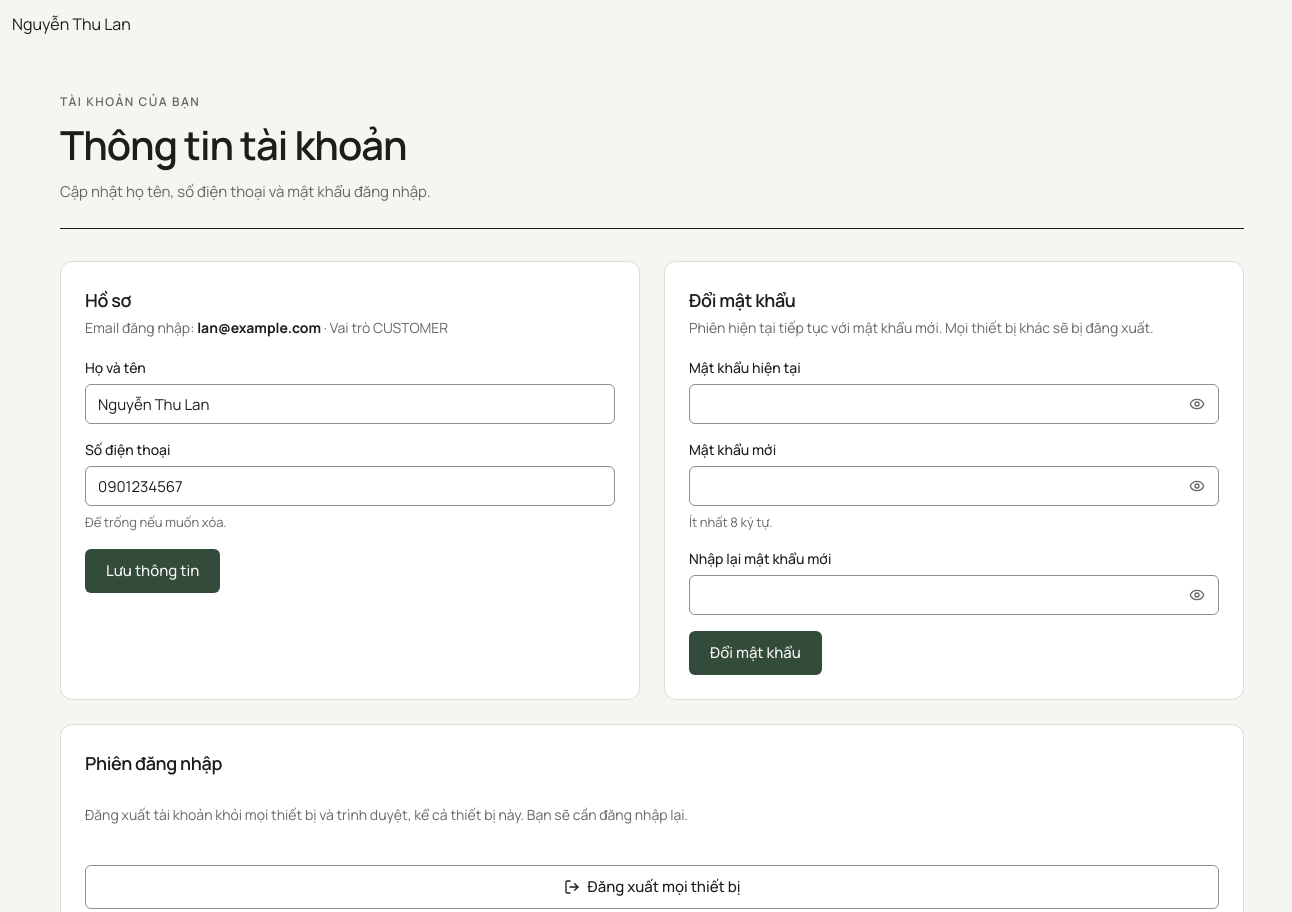
Test case: AccountPage and profile hydration (CWB-63) › saves name/phone and updates the greeting without reloading
Replace the text in the field labelled "Họ và tên" with "Lan Nguyễn": (350, 404) [85,384,615,424]
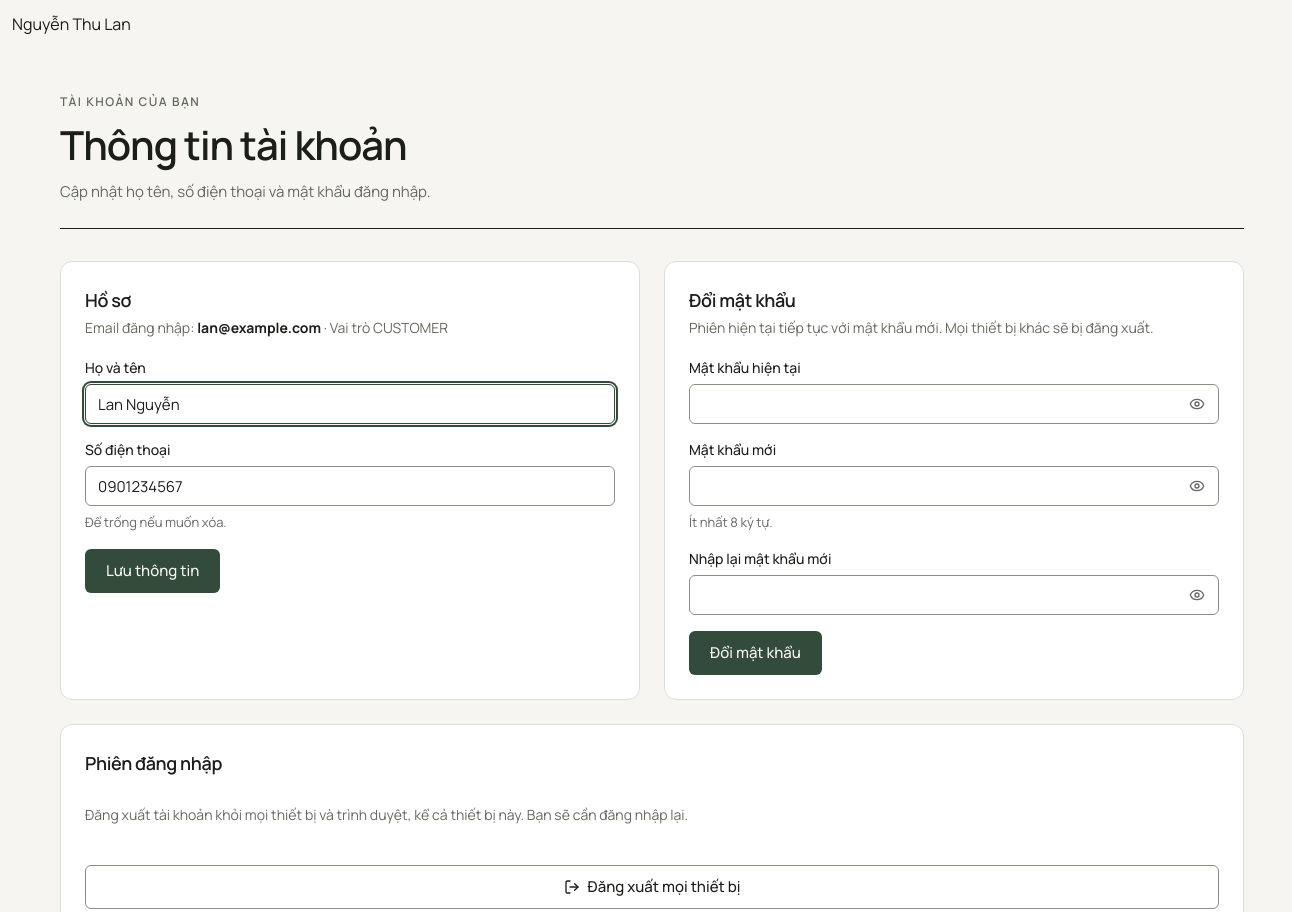
Clear the field labelled "Số điện thoại": (350, 486) [85,466,615,506]
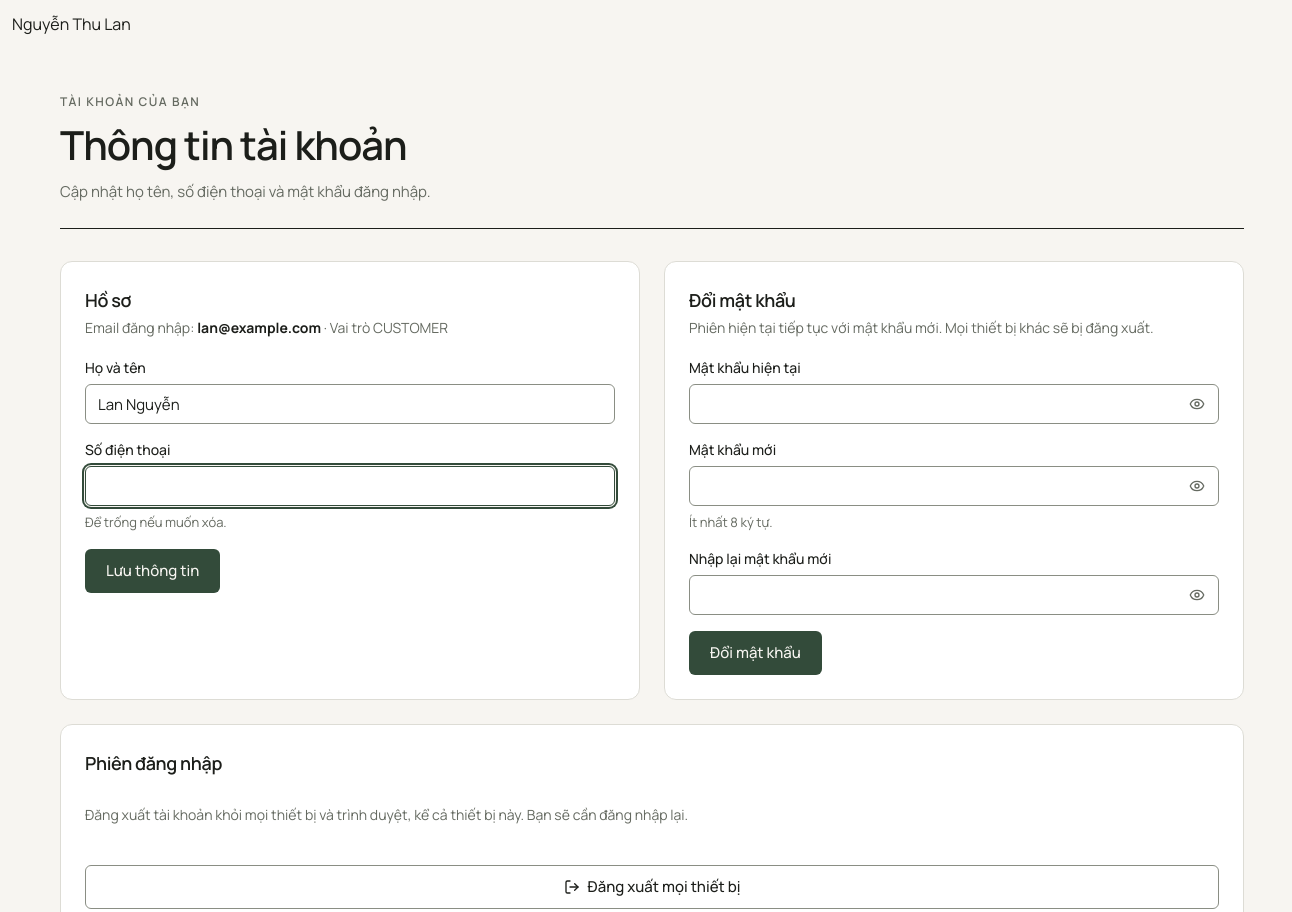
Click the button "Lưu thông tin": click(153, 571) [85,549,220,593]
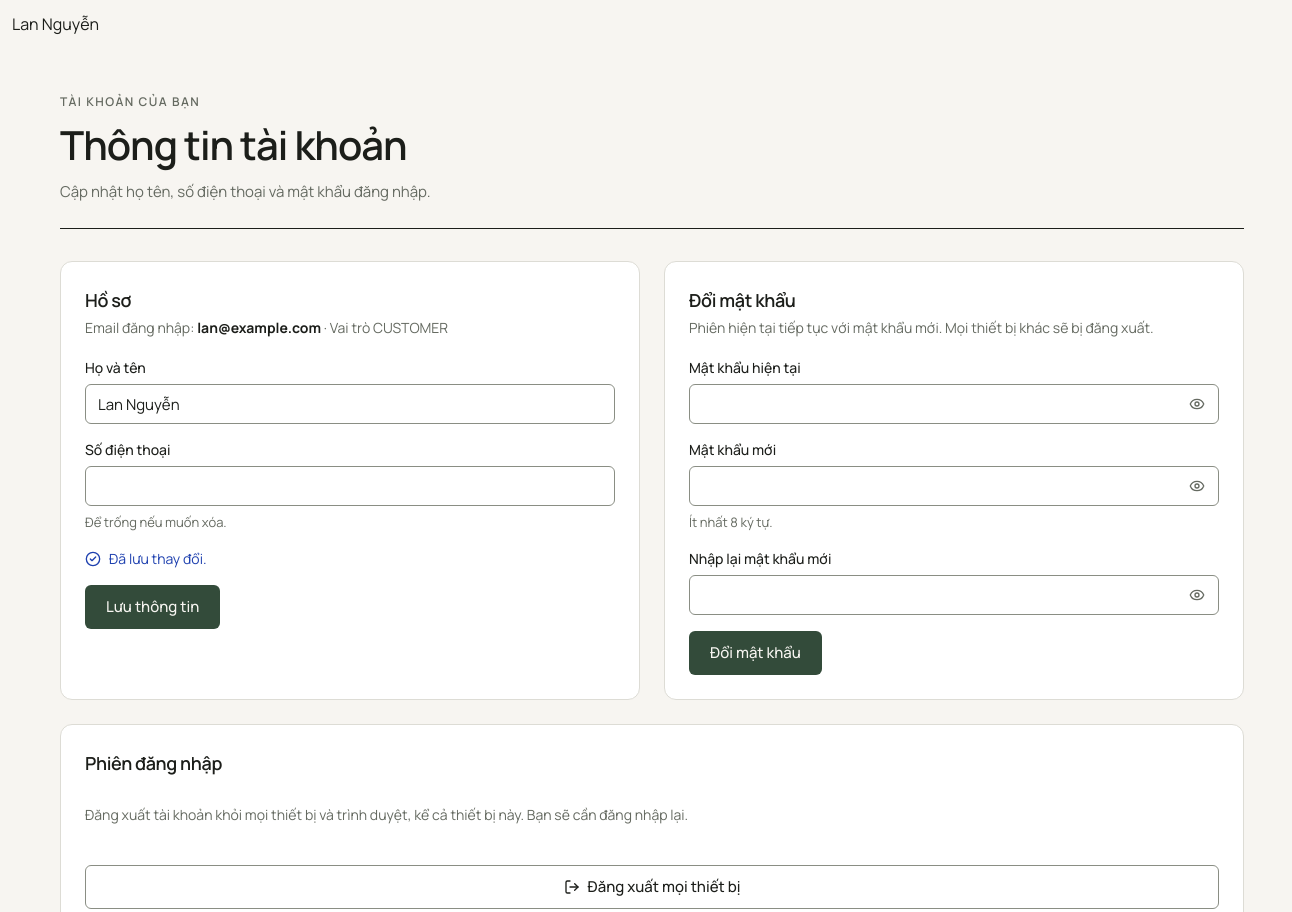
Expected: the text "Đã lưu thay đổi." is shown, [85,549,206,568]
Expected: the text with test id "greeting" reads "Lan Nguyễn", [12,13,99,35]
